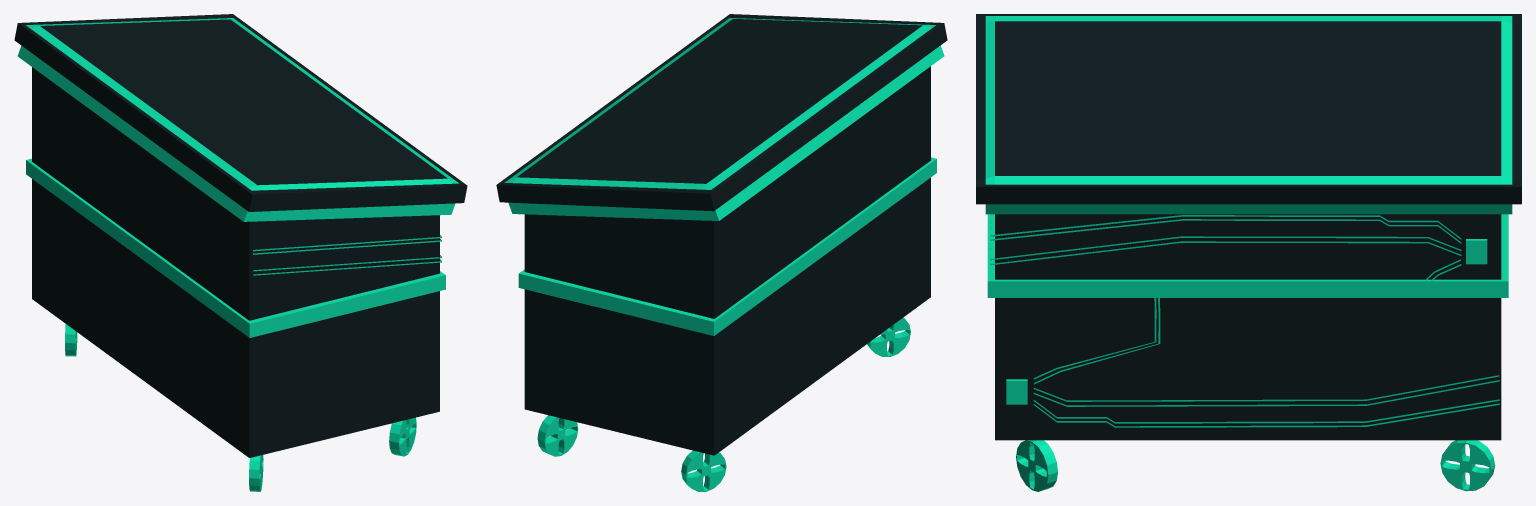
The model's file is trashcontainter.fbx.
3 views of the same model, side by side, from view 1: azimuth 30°, elevation 25°; view 2: azimuth 150°, elevation 25°; view 3: azimuth 270°, elevation 25° (orthographic). The views are drawn at different scales.
Parts seen in each view (by area): view 1: Cube.016; view 2: Cube.016; view 3: Cube.016.
Boxes of the visible parts, x1=… form: Cube.016: x1=14, y1=14, x2=467, y2=491; Cube.016: x1=496, y1=14, x2=947, y2=491; Cube.016: x1=976, y1=14, x2=1521, y2=491.
Bounding box in the file's own units: 230 × 323 × 426.
